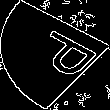P_SE: (12, 25, 98, 85)
